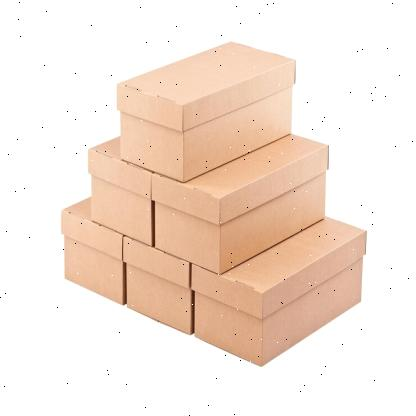box: (190, 263, 263, 369), (116, 82, 184, 185), (152, 174, 221, 274), (123, 234, 191, 334), (88, 149, 150, 246), (60, 207, 122, 303)
